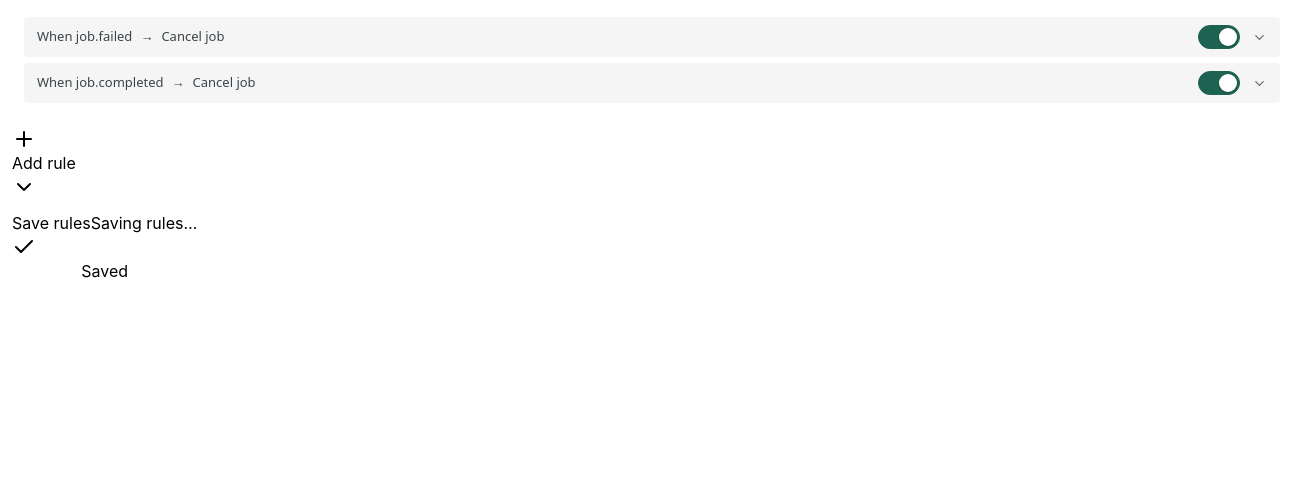
it: removes a rule at once and Undo puts it back where it was
Click the button "When job.failed → Cancel job". click: (85, 36)
box: [25,18,1279,56]
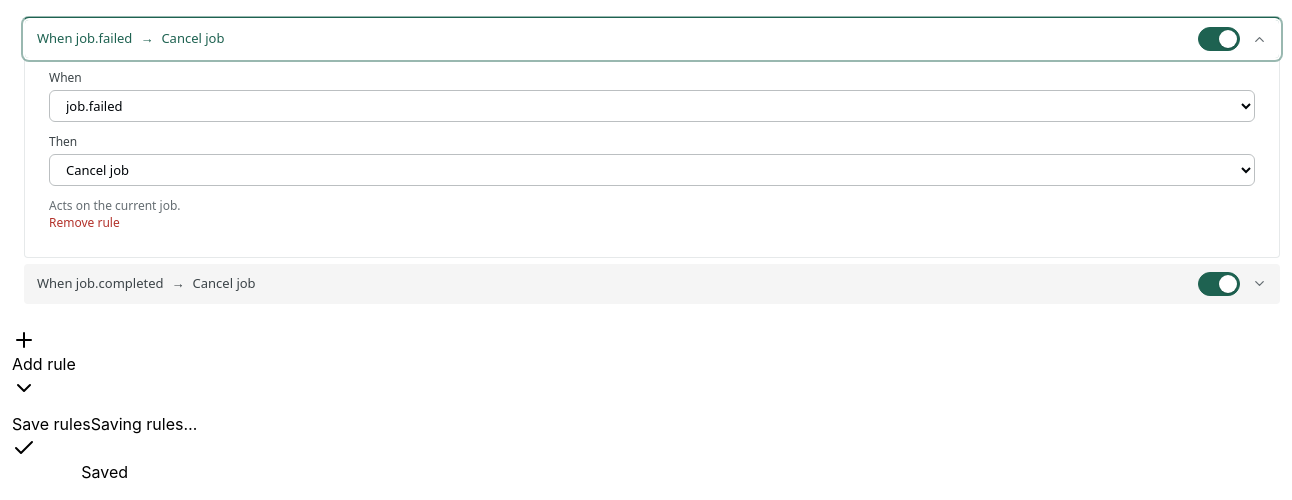
Click the button "Remove rule". click: (84, 223)
box: [49,214,120,233]
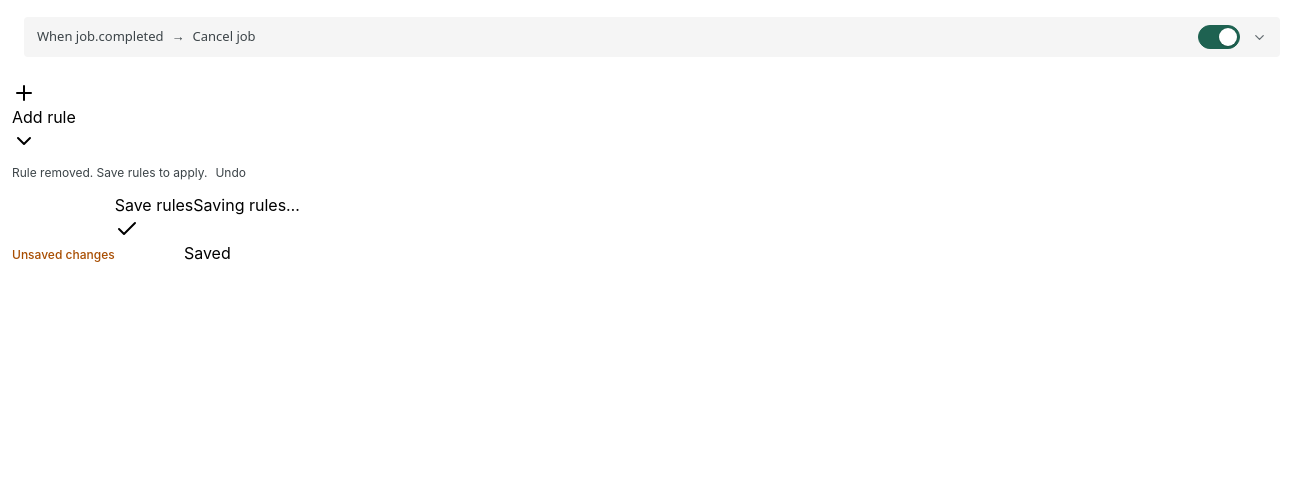
Expected: the number of buttons "When job.completed → Cancel job" is 1, [25,18,1279,56]
Expected: the text "Rule removed. Save rules to apply." is shown, [12,165,207,181]
Expected: the button "Save rules" is enabled, [115,193,300,265]
Click the button "Undo". click: (231, 173)
box: [215,165,246,181]
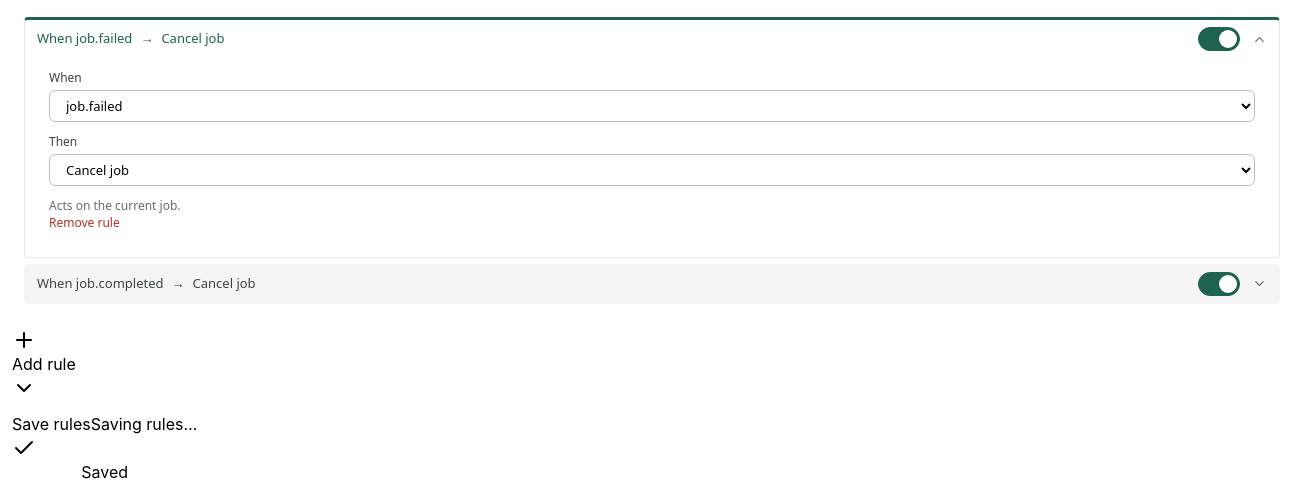
Expected: the number of buttons "When job.failed → Cancel job" is 2, [25,20,1279,58]; [25,265,1279,303]
Expected: the button "When job.failed → Cancel job" is shown, [25,20,1279,58]
Expected: the button "Save rules" is disabled, [12,412,197,484]
